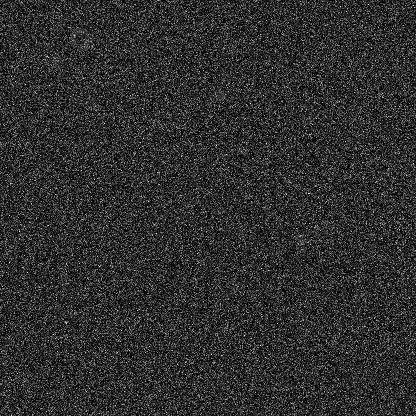Ring: (68, 27, 92, 51), (112, 30, 136, 54)
Spot: (49, 16, 65, 32), (213, 201, 229, 217), (380, 129, 396, 145), (211, 86, 227, 102), (226, 34, 242, 50), (81, 98, 97, 114), (48, 52, 64, 68), (293, 233, 309, 249)
